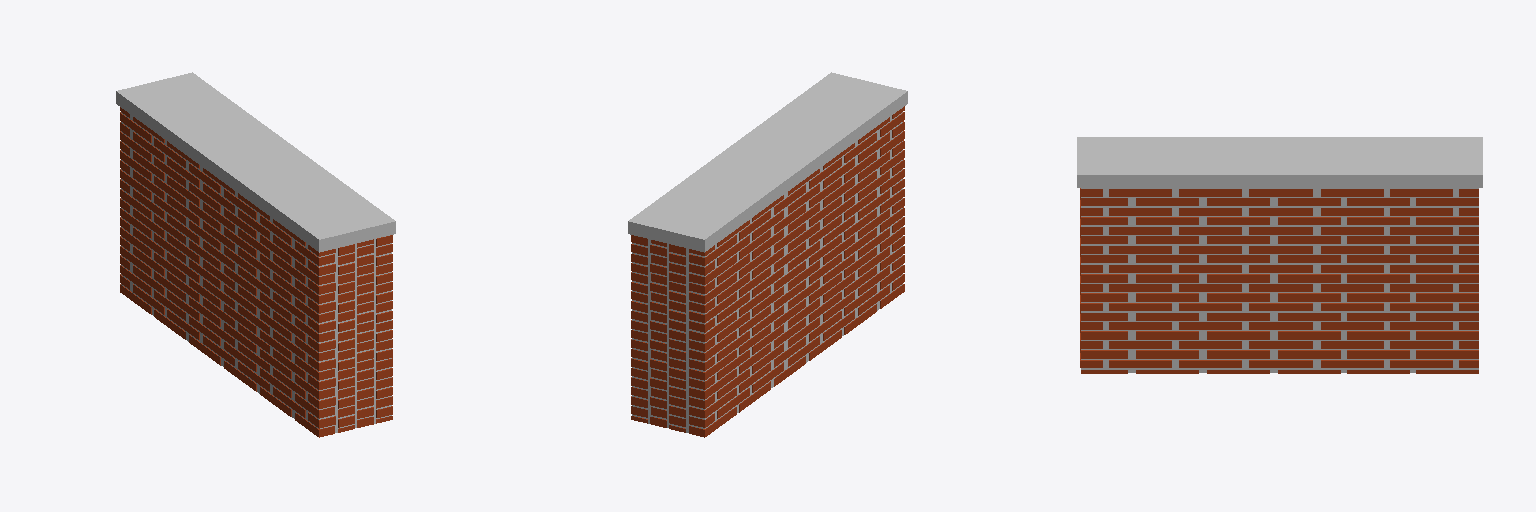
The model's file is d-fanghuoqiang.obj.
3 views of the same model, side by side, from view 1: azimuth 30°, elevation 25°; view 2: azimuth 150°, elevation 25°; view 3: azimuth 270°, elevation 25° (orthographic).
Visible parts, largest first — view 1: fanghuoqiang; view 2: fanghuoqiang; view 3: fanghuoqiang.
Boxes of the visible parts, x1=… form: fanghuoqiang: x1=116, y1=72, x2=395, y2=437; fanghuoqiang: x1=628, y1=72, x2=907, y2=437; fanghuoqiang: x1=1077, y1=137, x2=1482, y2=373.
Size of the model in its own units: 39.79 by 99.04 by 183.